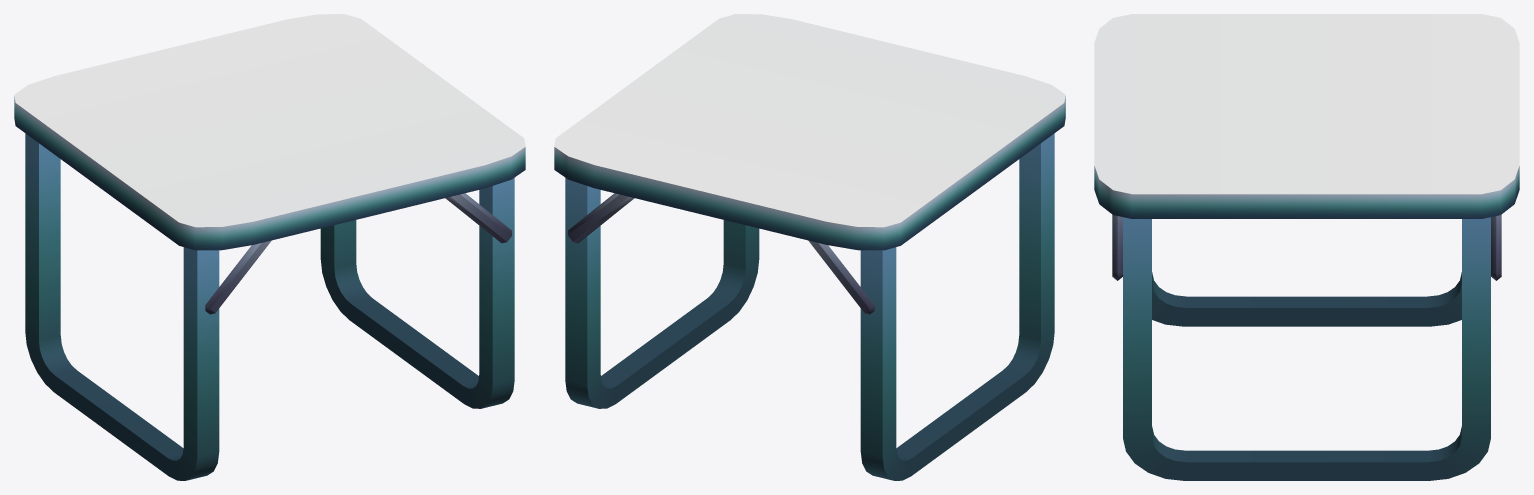
File: SM_Table.fbx
The picture shows the model from 3 angles, left to right: view 1: azimuth 30°, elevation 25°; view 2: azimuth 150°, elevation 25°; view 3: azimuth 270°, elevation 25°; orthographic projection. The views are drawn at different scales.
Visible parts, largest first — view 1: SM_Table; view 2: SM_Table; view 3: SM_Table.
Part boxes in pixels (box(x1,y1,x2,y2)): SM_Table: box(14, 14, 525, 480); SM_Table: box(554, 14, 1065, 480); SM_Table: box(1094, 14, 1519, 480).
Bounding box in the file's own units: 152 × 116 × 152.
